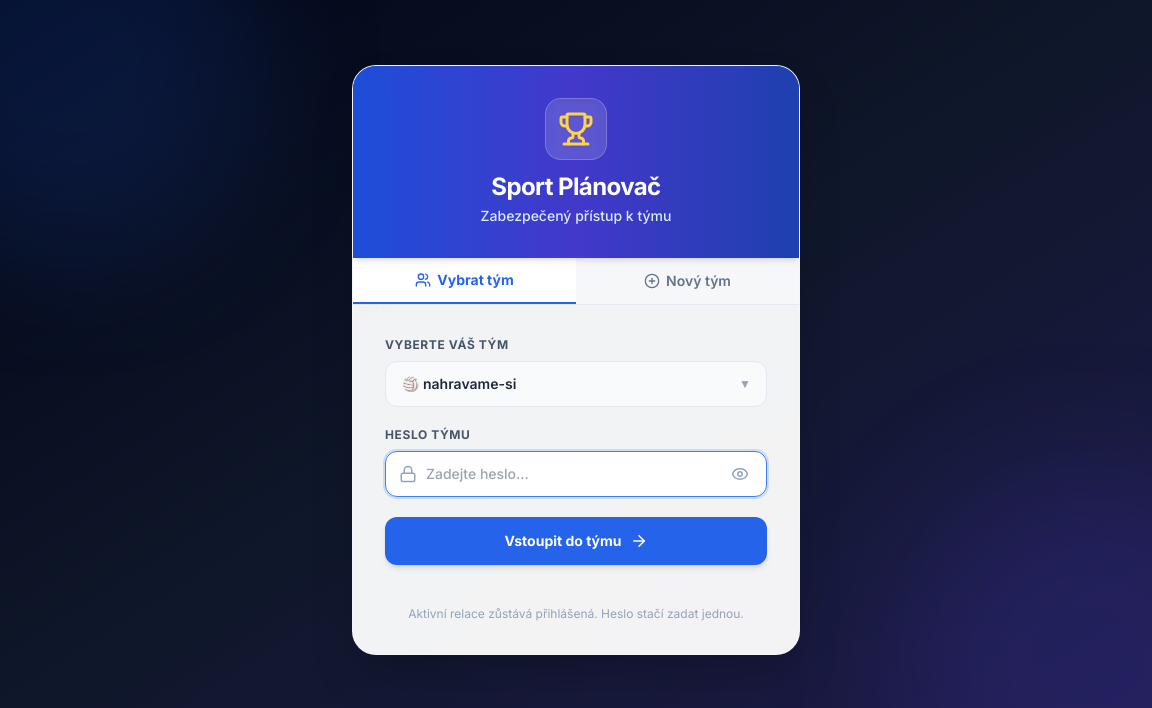
Test: TeamLoginScreen › validates empty name and short password when creating new team
The image size is (1152, 708).
Click the button "Nový tým" at (688, 281), box [576, 258, 799, 304]
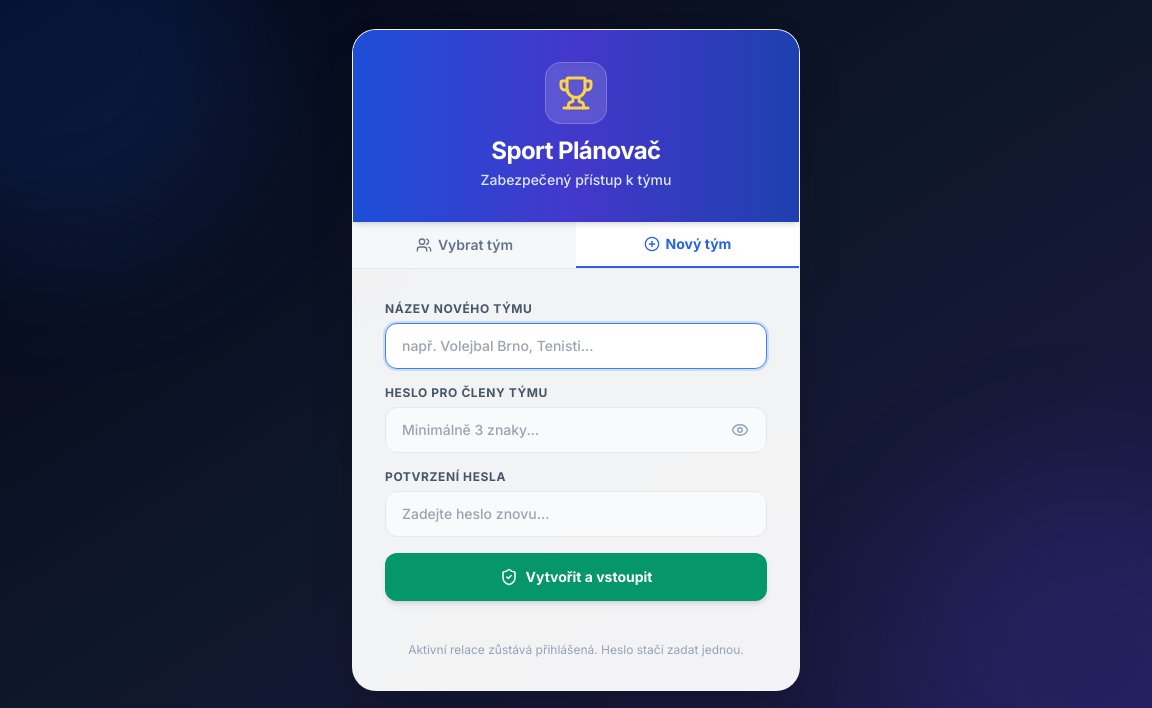
Click the button "Vytvořit a vstoupit" at (576, 577), box [385, 553, 767, 601]
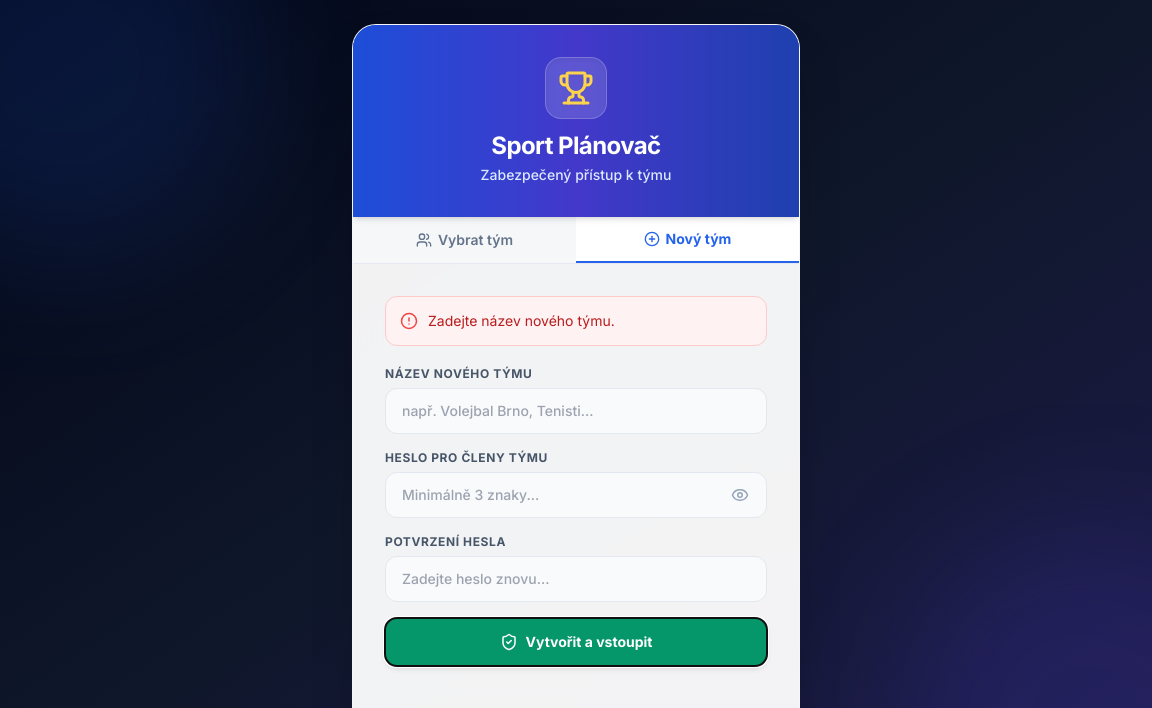
Expected: the text "Zadejte název nového týmu." is shown, [428, 311, 615, 331]
Type "Nový Tým" into the field with placeholder "např. Volejbal Brno, Tenisti..." at (576, 411), box [385, 388, 767, 434]
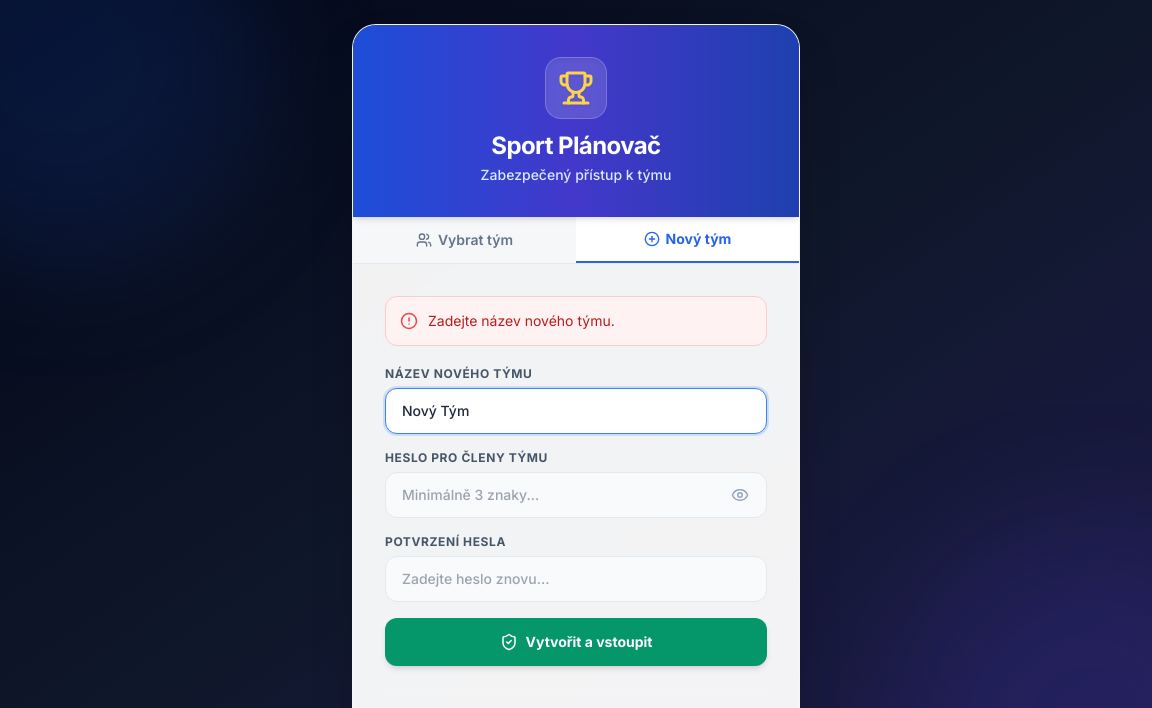
Click the button "Vytvořit a vstoupit" at (576, 642), box [385, 618, 767, 666]
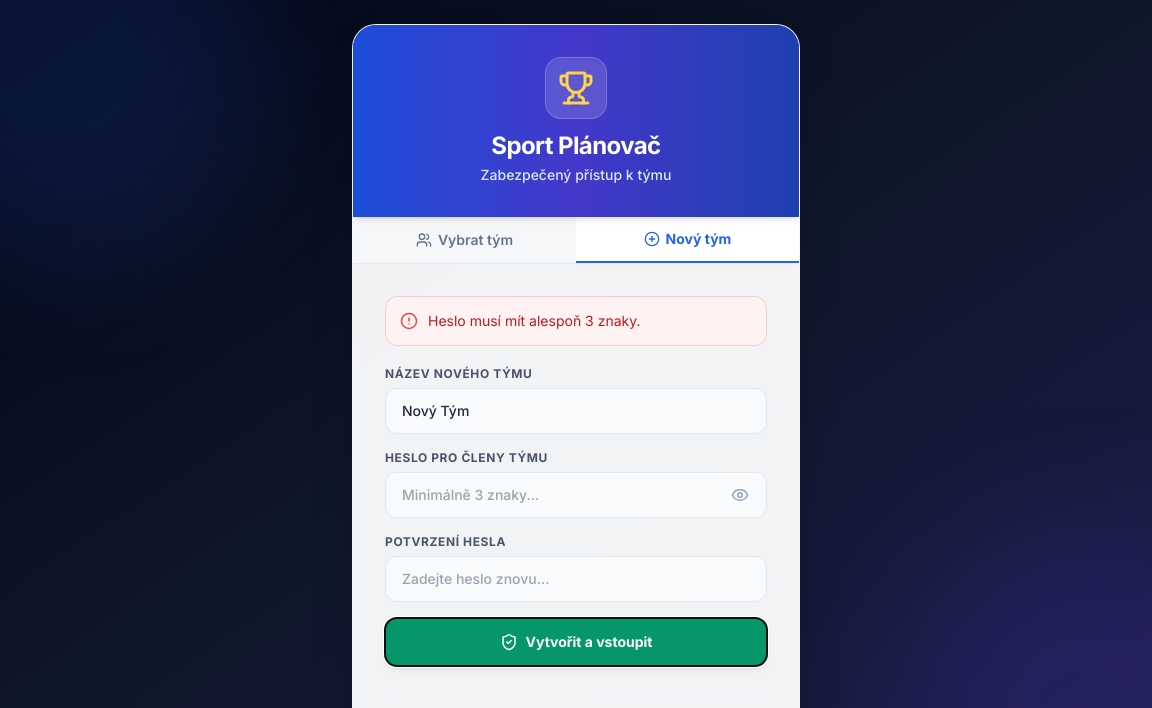
Expected: the text "Heslo musí mít alespoň 3 znaky." is shown, [428, 311, 640, 331]
